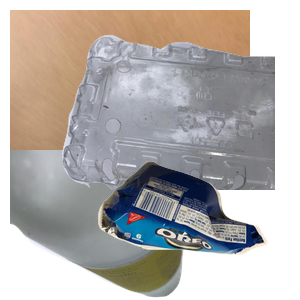cardboard: (10, 10, 250, 190)
glass: (10, 150, 190, 300)
plastic: (60, 32, 300, 212)
trash: (95, 158, 300, 300)
